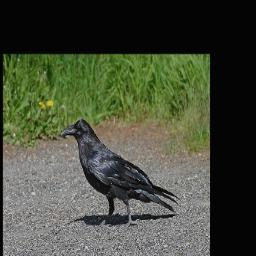Crow: (60, 119, 183, 231)
